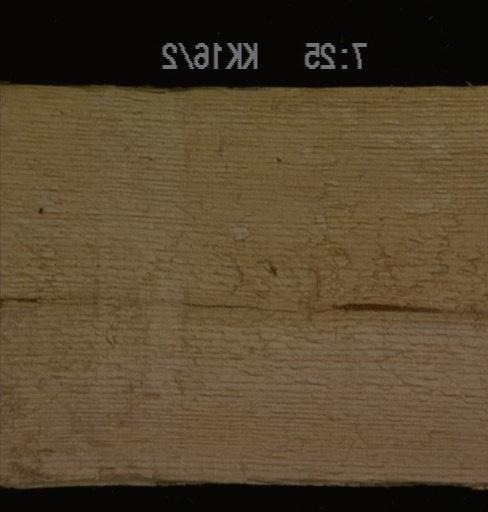split: (183, 284, 305, 325)
